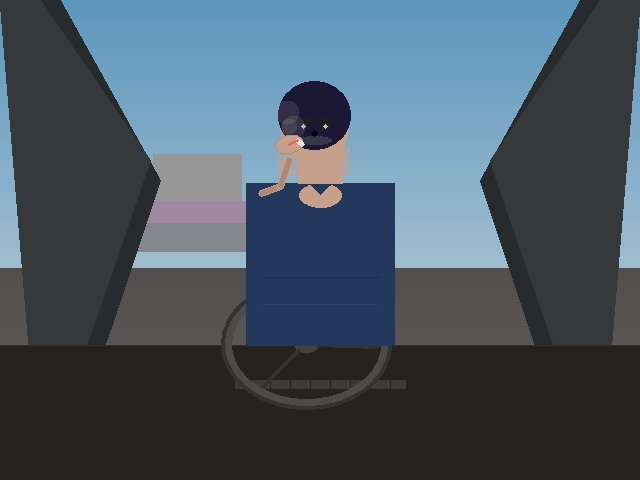smoking: (279, 129, 312, 159)
